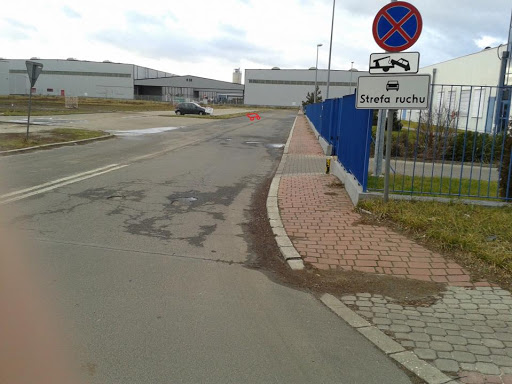no_stopping_sign: (372, 1, 423, 52)
